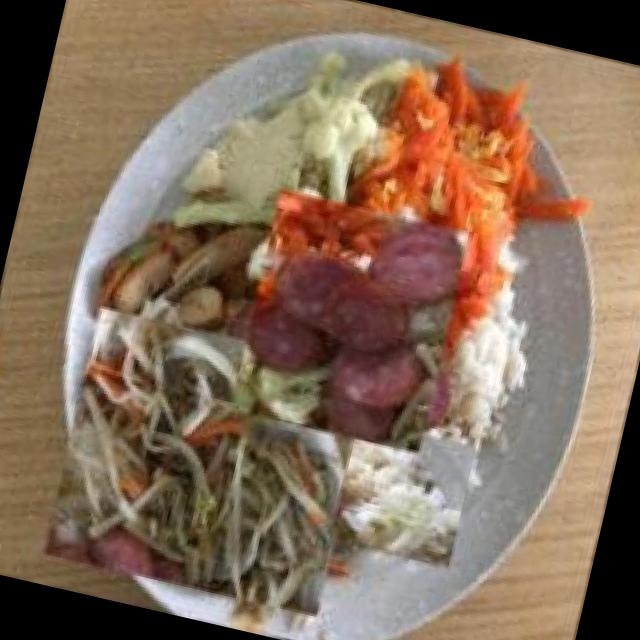carrot_eggs: (318, 36, 566, 362)
chinese_sausage: (215, 187, 486, 457)
mung_bean_sprouts: (33, 296, 387, 630)
rice: (324, 412, 484, 572)
